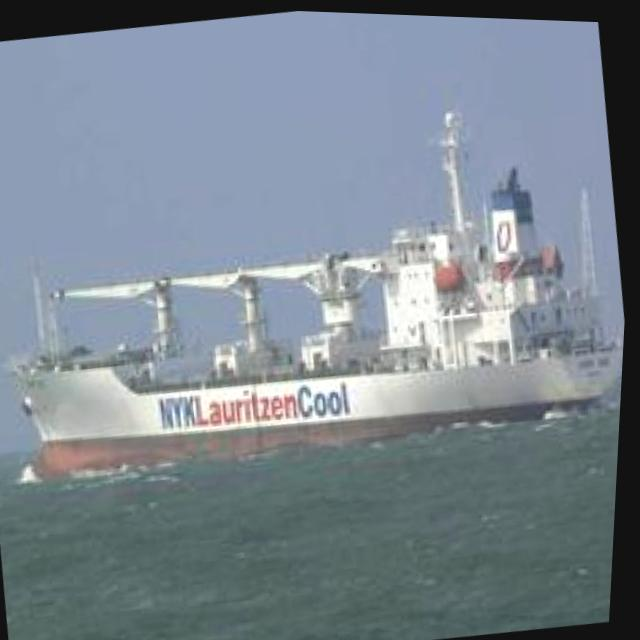ship2: (14, 110, 627, 482)
